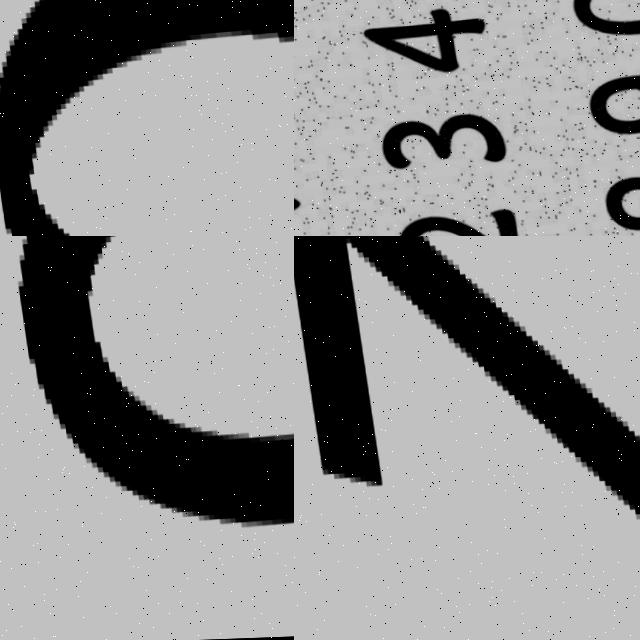0: (545, 0, 640, 49)
2: (364, 196, 530, 236)
3: (359, 99, 509, 181)
4: (340, 6, 493, 88)
8: (578, 167, 640, 236)
9: (562, 67, 640, 147)
C: (13, 236, 294, 525)
O: (0, 0, 294, 236)
Z: (294, 236, 640, 636)
